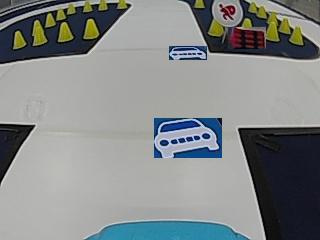thief: (212, 0, 243, 27)
